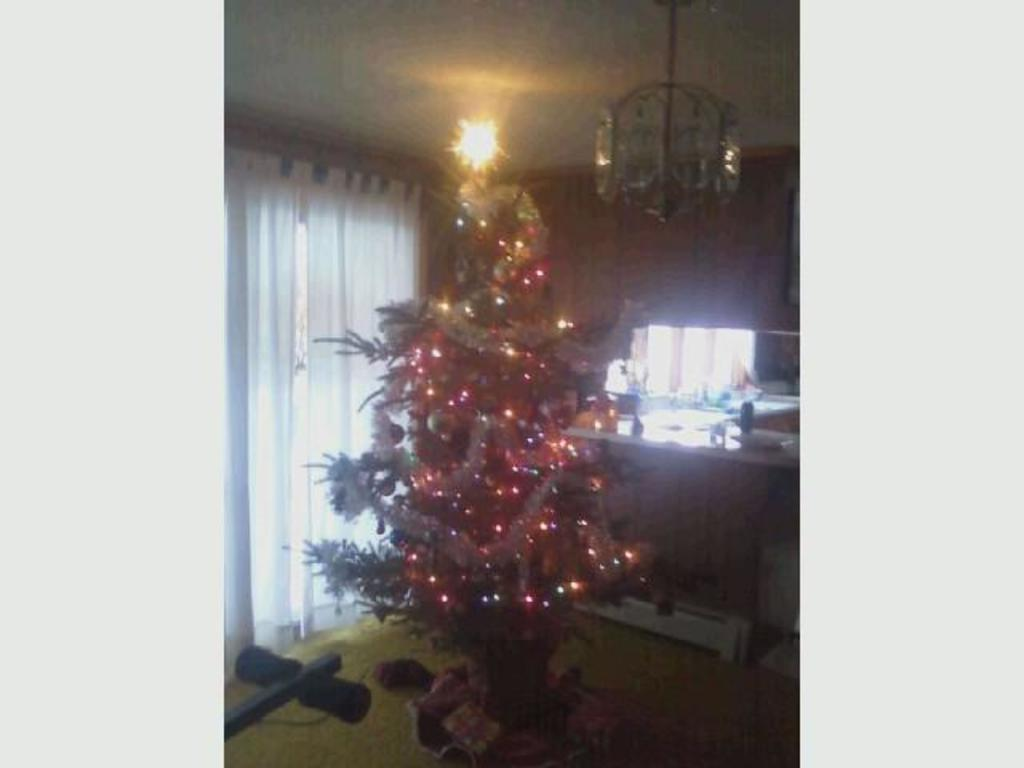Table: (563, 406, 806, 664)
